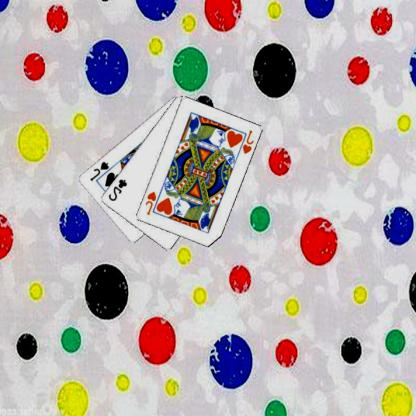2C: (107, 177, 130, 202)
JH: (144, 189, 159, 216), (242, 128, 256, 155)
JS: (89, 159, 112, 182)
